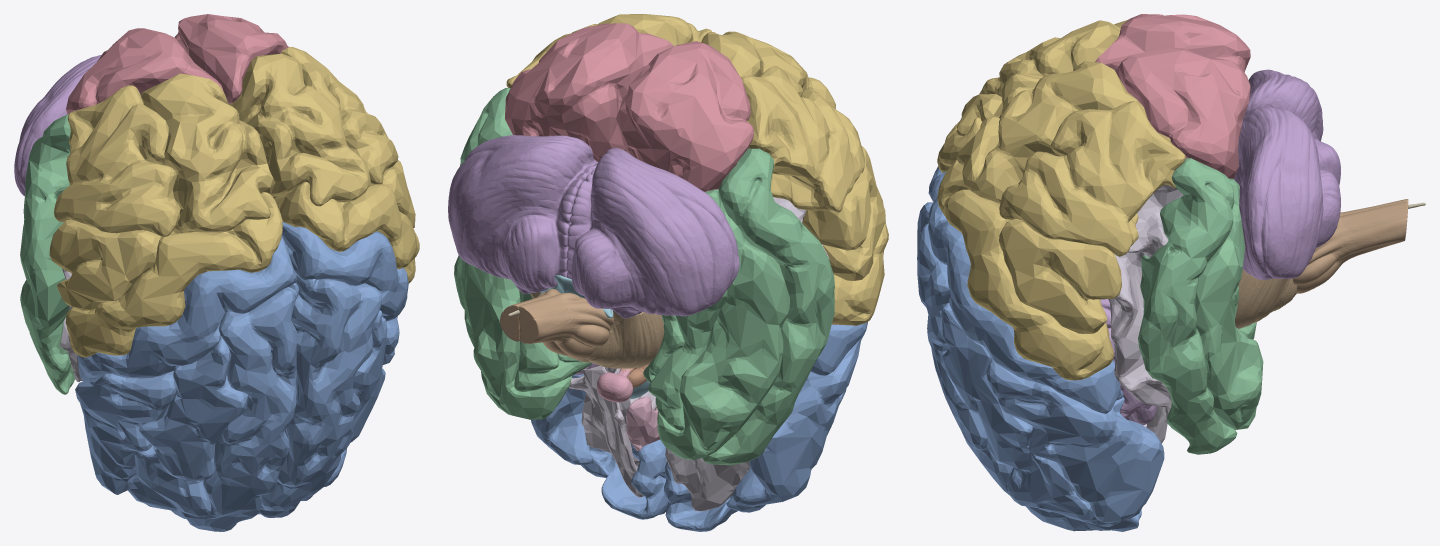
Rendered from brain.glb.
The picture shows the model from 3 angles, left to right: view 1: azimuth 30°, elevation 25°; view 2: azimuth 150°, elevation 25°; view 3: azimuth 270°, elevation 25°; orthographic projection. The views are drawn at different scales.
Parts seen in each view (by area): view 1: parietal_lobe, frontal_lobe, occipital_lobe, temporal_lobe, cerebellum, inner_cerebrum; view 2: temporal_lobe, cerebellum, occipital_lobe, parietal_lobe, frontal_lobe, inner_cerebrum, medulla, pons, limbic, pituitary, ventricles; view 3: parietal_lobe, frontal_lobe, temporal_lobe, cerebellum, occipital_lobe, inner_cerebrum, medulla, pons, insula.
Boxes of the visible parts, box(x1,y1,x2,y2) form: parietal_lobe: box(49, 46, 419, 357); frontal_lobe: box(75, 221, 408, 531); occipital_lobe: box(66, 14, 289, 114); temporal_lobe: box(20, 114, 75, 394); cerebellum: box(14, 55, 101, 196); inner_cerebrum: box(60, 268, 82, 381); temporal_lobe: box(454, 88, 834, 465); cerebellum: box(448, 135, 739, 318); occipital_lobe: box(505, 23, 753, 191); parietal_lobe: box(506, 14, 888, 325); frontal_lobe: box(531, 322, 867, 531); inner_cerebrum: box(569, 197, 829, 511); medulla: box(500, 288, 613, 359); pons: box(530, 291, 664, 368); limbic: box(626, 396, 659, 450); pituitary: box(597, 368, 632, 402); ventricles: box(539, 275, 649, 398); parietal_lobe: box(937, 20, 1185, 380); frontal_lobe: box(917, 166, 1164, 531); temporal_lobe: box(1138, 158, 1263, 454); cerebellum: box(1233, 69, 1340, 279); occipital_lobe: box(1095, 14, 1250, 178); inner_cerebrum: box(1108, 185, 1182, 443); medulla: box(1293, 199, 1408, 293); pons: box(1235, 269, 1297, 328); insula: box(1100, 299, 1156, 425).
Size of the model in its own units: 139 by 180 by 172.
